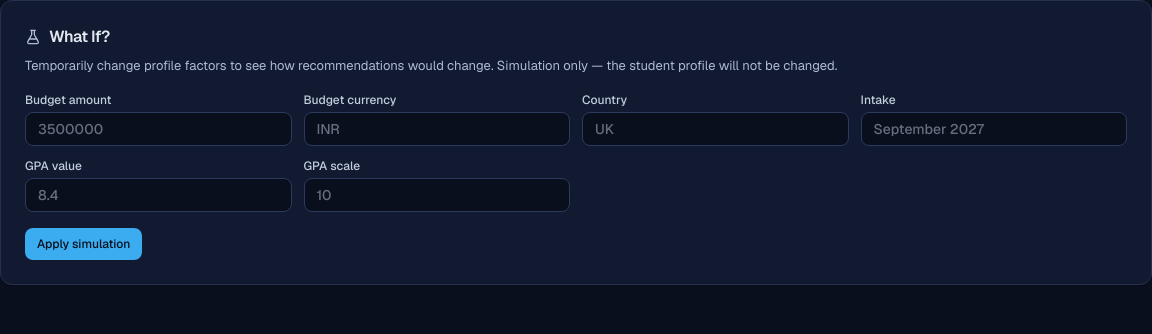
Scenario: WhatIfPanel › requires at least one scenario value
This screenshot has width=1152, height=334.
Click the button "Apply simulation": (84, 244) [25, 228, 142, 260]
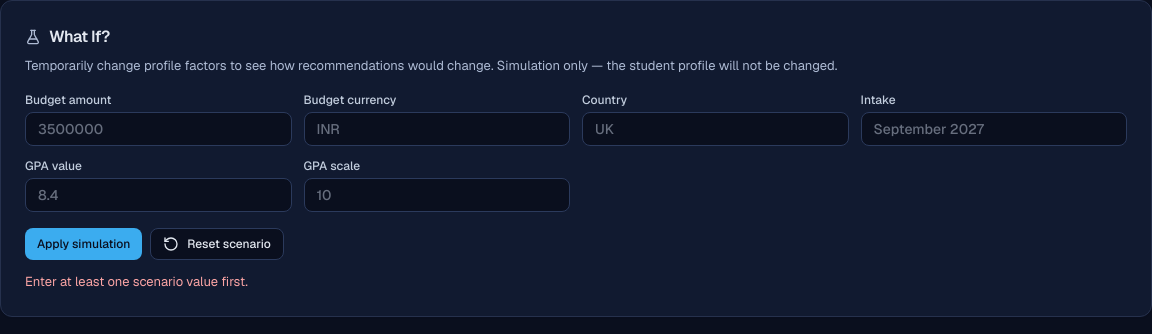
Expected: the message "Enter at least one scenario value first." is shown, [25, 273, 248, 290]
